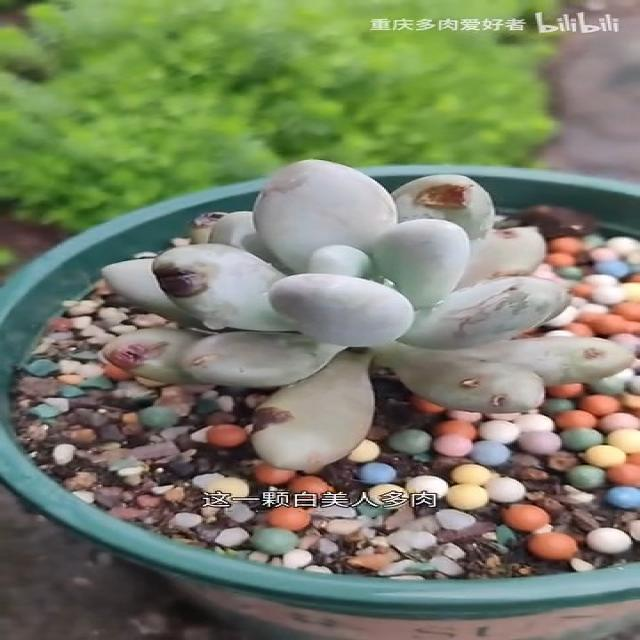-: (144, 258, 219, 302), (105, 338, 169, 372), (414, 186, 482, 214), (250, 404, 300, 438), (457, 370, 478, 396), (489, 392, 514, 408)
